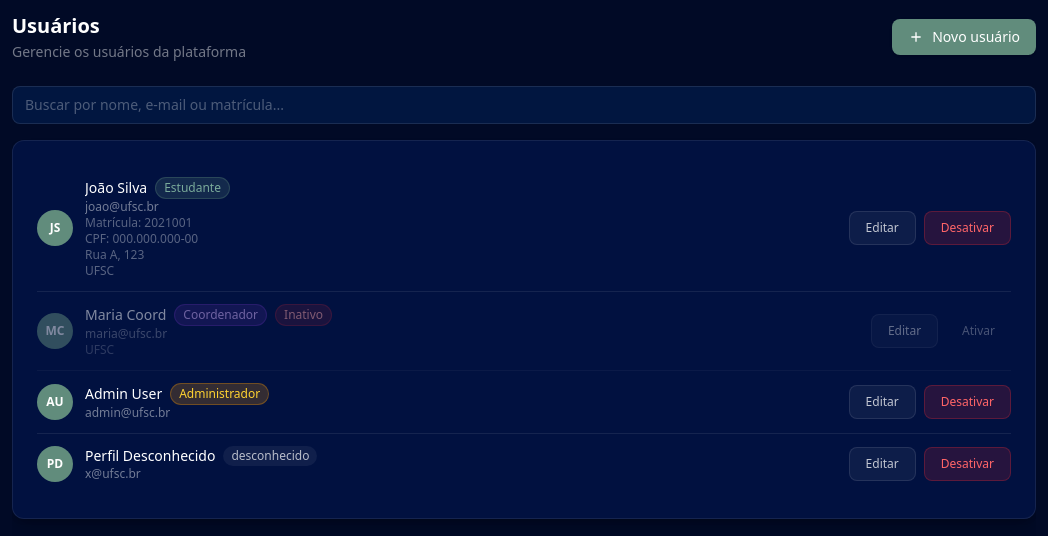
Test: Usuarios — busca › filtra por matrícula
Check: the text "João Silva" is shown, box top-left (85, 178), bottom-right (147, 198)
In the field with placeholder "Buscar por nome, e-mail ou matrícula...": (524,105) top-left (12, 86), bottom-right (1036, 124), type "2021001"
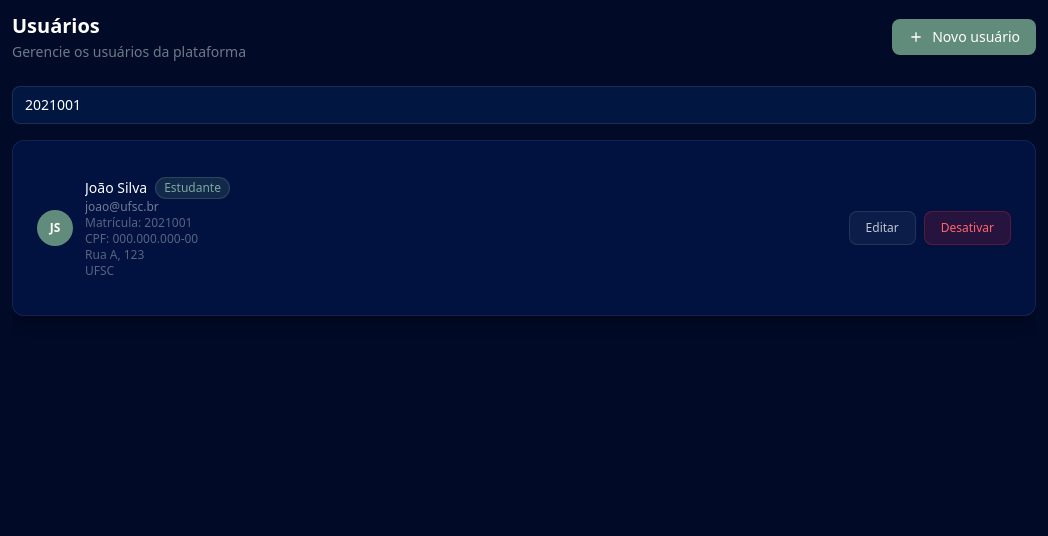
Check: the text "João Silva" is shown, box top-left (85, 178), bottom-right (147, 198)
Check: the text "Maria Coord" is gone
